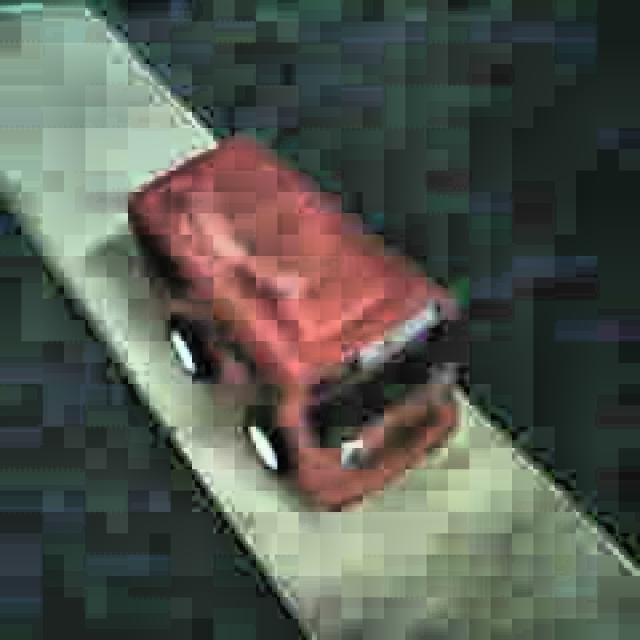bus: (125, 133, 460, 516)
